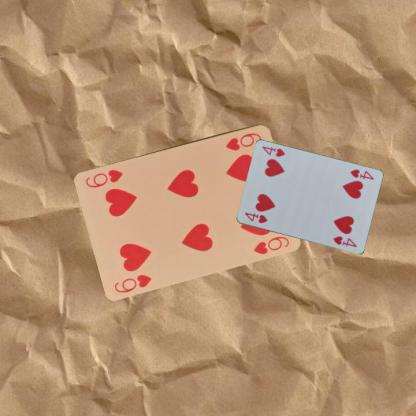4h: (347, 166, 375, 182), (242, 210, 269, 224)
6h: (112, 271, 153, 294), (223, 130, 263, 152)
